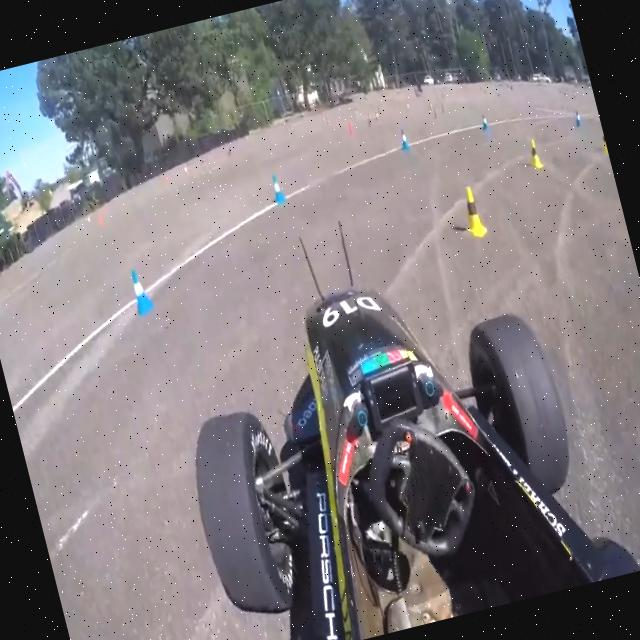blue_cone: (118, 262, 156, 318), (261, 167, 291, 210), (392, 127, 417, 152), (474, 109, 494, 134)
yellow_cone: (454, 176, 488, 240), (522, 136, 546, 172), (596, 124, 608, 156)
